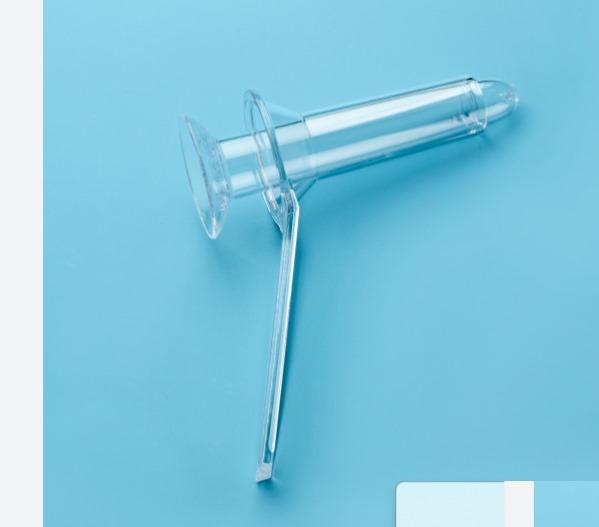Protoscope: (162, 61, 537, 491)
